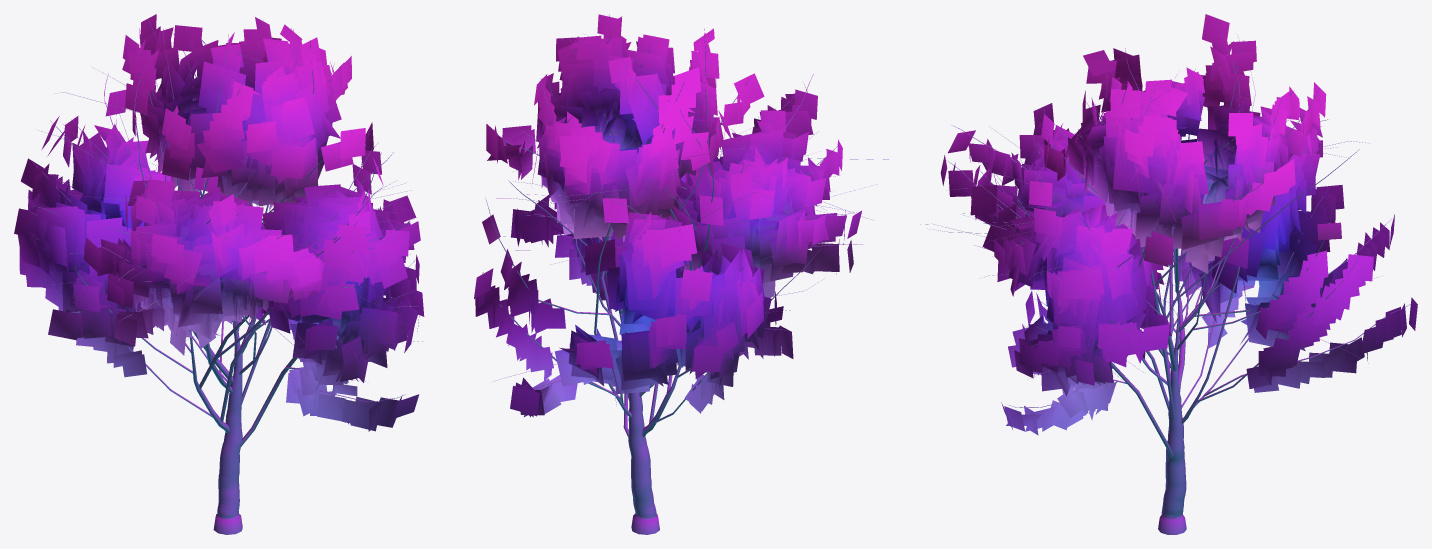
Rendered from tree_birch_s9_a30.fbx.
3 renders of one model, left to right at view 1: azimuth 30°, elevation 25°; view 2: azimuth 150°, elevation 25°; view 3: azimuth 270°, elevation 25°, orthographic. The views are drawn at different scales.
Visible parts, largest first — view 1: tree_birch_s9_a30_leaves, tree_birch_s9_a30_branches; view 2: tree_birch_s9_a30_leaves, tree_birch_s9_a30_branches; view 3: tree_birch_s9_a30_leaves, tree_birch_s9_a30_branches.
Boxes of the visible parts, bbox=[...] form: tree_birch_s9_a30_leaves: bbox=[14, 14, 424, 431]; tree_birch_s9_a30_branches: bbox=[27, 19, 422, 534]; tree_birch_s9_a30_leaves: bbox=[474, 14, 861, 417]; tree_birch_s9_a30_branches: bbox=[483, 15, 888, 534]; tree_birch_s9_a30_leaves: bbox=[940, 14, 1417, 435]; tree_birch_s9_a30_branches: bbox=[920, 19, 1411, 534].
Bounding box in the file's own units: 7.53 × 10.1 × 9.46.
